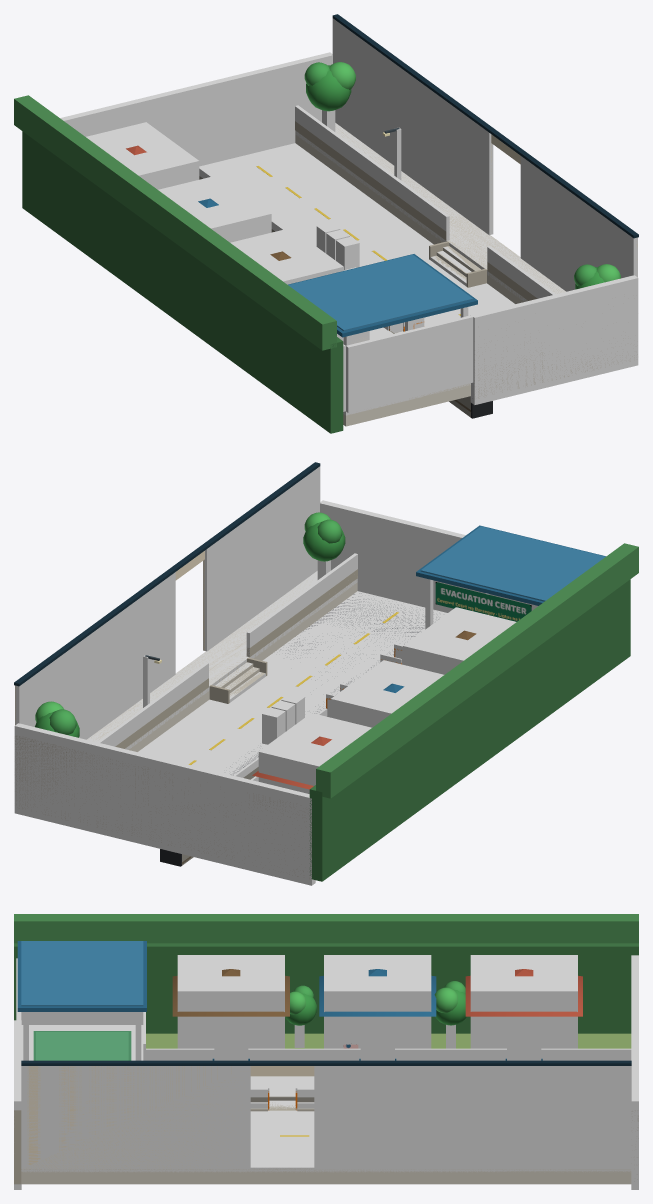
Rendered from street.fbx.
3 views of the same model, one above another, from view 1: azimuth 30°, elevation 25°; view 2: azimuth 150°, elevation 25°; view 3: azimuth 270°, elevation 25° (orthographic).
Visible parts, largest first — view 1: M__street, COL__st_facade_n, COL__st_end_south, COL__st_end_north, FLOOR__st_road, COL__st_facade_s, COL__st_court_back, FLOOR__st_terrace, COL__st_house_7, COL__st_house_13, COL__st_house_19, COL__st_terrace_wall_n (+2 smaller); view 2: M__street, COL__st_end_north, FLOOR__st_road, COL__st_facade_n, COL__st_facade_s, COL__st_end_south, COL__st_house_7, FLOOR__st_terrace, COL__st_house_13, COL__st_house_19, COL__st_terrace_wall_s, T__evac_banner__0960 (+2 smaller); view 3: M__street, COL__st_facade_n, COL__st_facade_s, COL__st_house_7, COL__st_house_19, COL__st_house_13, FLOOR__st_terrace, FLOOR__st_road, COL__st_end_north, COL__st_court_west, COL__st_fence_2, COL__st_fence_1 (+5 smaller).
Part boxes in pixels (x1,y1,x2,y2): M__street: (14, 14, 638, 433); COL__st_facade_n: (332, 18, 493, 235); COL__st_end_south: (470, 275, 638, 404); COL__st_end_north: (60, 52, 332, 166); FLOOR__st_road: (199, 143, 514, 326); COL__st_facade_s: (520, 156, 637, 291); COL__st_court_back: (346, 315, 473, 412); FLOOR__st_terrace: (295, 123, 565, 301); COL__st_house_7: (86, 122, 199, 189); COL__st_house_13: (158, 175, 271, 242); COL__st_house_19: (230, 228, 343, 284); COL__st_terrace_wall_n: (295, 105, 449, 240); M__street: (14, 462, 638, 881); COL__st_end_north: (14, 723, 315, 885); FLOOR__st_road: (138, 591, 447, 775); COL__st_facade_n: (15, 572, 175, 739); COL__st_facade_s: (203, 466, 320, 651); COL__st_end_south: (320, 500, 480, 612); COL__st_house_7: (258, 713, 371, 793); FLOOR__st_terrace: (87, 571, 357, 749); COL__st_house_13: (330, 660, 443, 727); COL__st_house_19: (403, 607, 516, 674); COL__st_terrace_wall_s: (246, 553, 357, 657); T__evac_banner__0960: (435, 582, 531, 621); M__street: (14, 914, 638, 1184); COL__st_facade_n: (314, 1066, 631, 1169); COL__st_facade_s: (21, 1066, 250, 1169); COL__st_house_7: (470, 955, 577, 1060); COL__st_house_19: (177, 955, 284, 1060); COL__st_house_13: (324, 955, 431, 1060); FLOOR__st_terrace: (21, 1148, 631, 1172); FLOOR__st_road: (250, 1110, 314, 1148); COL__st_end_north: (631, 955, 638, 1189); COL__st_court_west: (21, 1012, 143, 1024); COL__st_fence_2: (248, 1048, 360, 1060); COL__st_fence_1: (395, 1048, 506, 1060).
Bounding box in the file's own units: 15.35 × 6.52 × 25.6.
